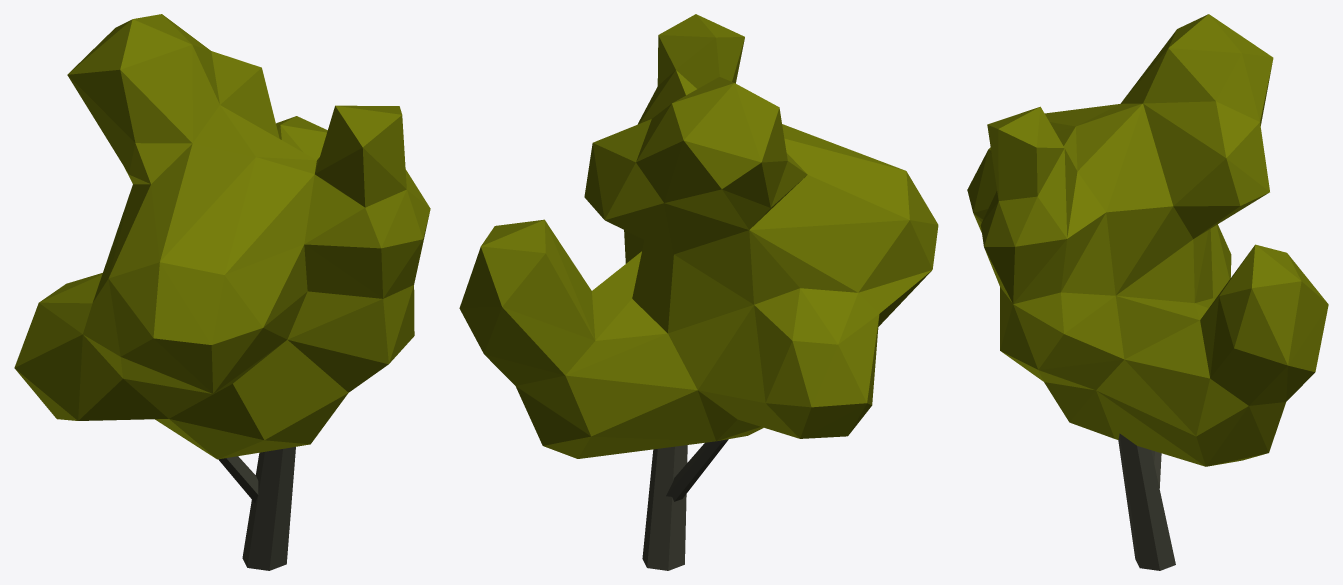
Rendered from Tree_4.glb.
The picture shows the model from 3 angles, left to right: view 1: azimuth 30°, elevation 25°; view 2: azimuth 150°, elevation 25°; view 3: azimuth 270°, elevation 25°; orthographic projection. The views are drawn at different scales.
Parts seen in each view (by area): view 1: Tree_04; view 2: Tree_04; view 3: Tree_04.
Part boxes in pixels (x1,y1,x2,y2): Tree_04: (14,14,430,570); Tree_04: (459,14,938,570); Tree_04: (967,14,1328,570).
Bounding box in the file's own units: 1.43 × 2 × 1.31.
